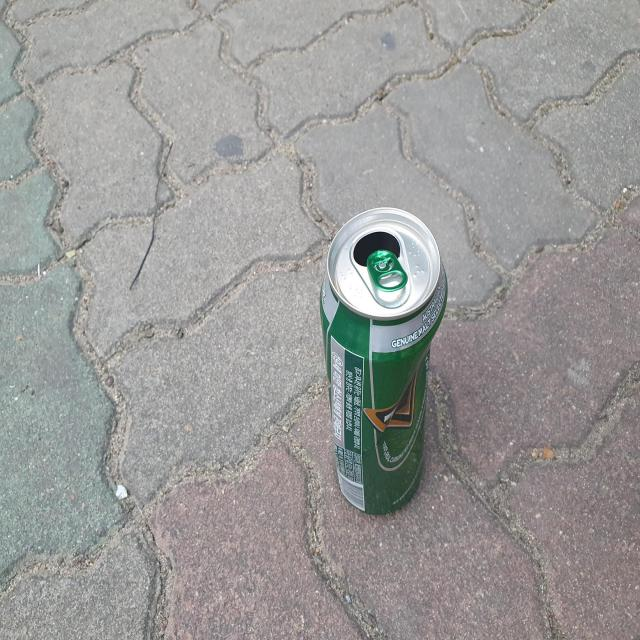can: (320, 207, 448, 515)
